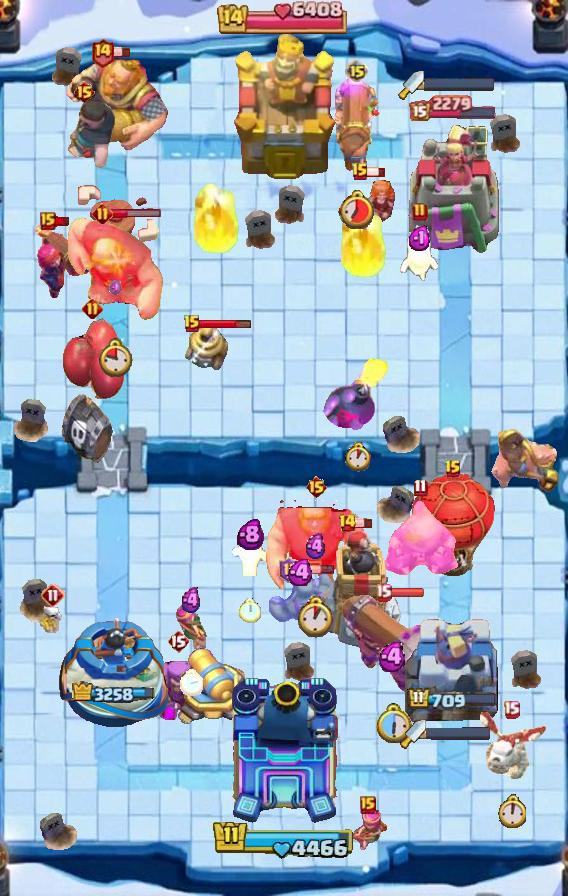baby-dragon: (322, 356, 394, 430)
balloon: (67, 216, 165, 328), (265, 500, 367, 598)
bar: (406, 122, 500, 256), (405, 611, 501, 731)
bat: (400, 224, 440, 282), (229, 536, 271, 576)
battle-healer: (334, 76, 380, 180)
cannon: (347, 809, 389, 853), (173, 603, 209, 653)
cannon-cart: (410, 471, 496, 579)
clock: (212, 819, 356, 861), (217, 0, 351, 34)
electro-spirit: (379, 642, 409, 672), (237, 518, 264, 550), (288, 559, 316, 586), (303, 532, 329, 560), (179, 587, 204, 614), (408, 224, 432, 252), (109, 280, 123, 297)
elixir: (296, 596, 336, 638), (339, 189, 378, 229), (374, 704, 412, 745), (99, 339, 133, 378), (497, 794, 526, 828), (344, 442, 373, 472), (179, 669, 203, 696), (239, 598, 261, 623)
emote: (199, 318, 252, 329), (111, 208, 162, 219), (297, 565, 335, 576), (389, 586, 425, 597), (366, 166, 386, 178), (354, 518, 374, 529), (113, 47, 132, 58), (53, 217, 71, 228)
flying-machine: (269, 568, 333, 624)
freeze: (487, 426, 561, 498)
furnace: (339, 591, 447, 701)
giant-skeleton: (65, 57, 173, 153)
goblin-drill: (182, 323, 228, 371)
heal-spirit: (39, 603, 67, 635)
hog-rider: (349, 176, 399, 226)
king-tower: (228, 676, 340, 826), (231, 35, 337, 182)
king-tower-bar: (424, 77, 496, 91), (426, 727, 490, 740)
mega-minion: (32, 220, 92, 300)
mini-pekka: (474, 710, 548, 782)
queen-tower: (54, 614, 173, 730)
rascal-girl: (155, 656, 201, 724)
royal-guardian: (382, 500, 458, 580)
royal-hog: (50, 99, 118, 175)
royal-recruit: (172, 642, 250, 732)
royal-recruit-evolution: (58, 318, 126, 468)
selected: (410, 95, 499, 122), (407, 687, 499, 713), (71, 682, 156, 707)
text: (89, 37, 114, 68), (345, 59, 369, 83), (41, 583, 65, 607), (72, 80, 95, 104), (304, 475, 327, 499), (279, 557, 300, 583), (167, 629, 189, 653), (82, 297, 103, 319), (91, 203, 112, 224), (338, 513, 358, 533), (351, 162, 369, 182), (183, 314, 201, 334), (444, 459, 462, 479), (375, 582, 392, 601), (503, 701, 520, 720), (412, 202, 428, 222), (40, 212, 56, 230), (360, 796, 376, 814), (413, 479, 428, 497)
valkyrie: (188, 182, 242, 258), (335, 206, 389, 282)
zappy: (318, 528, 403, 652)
